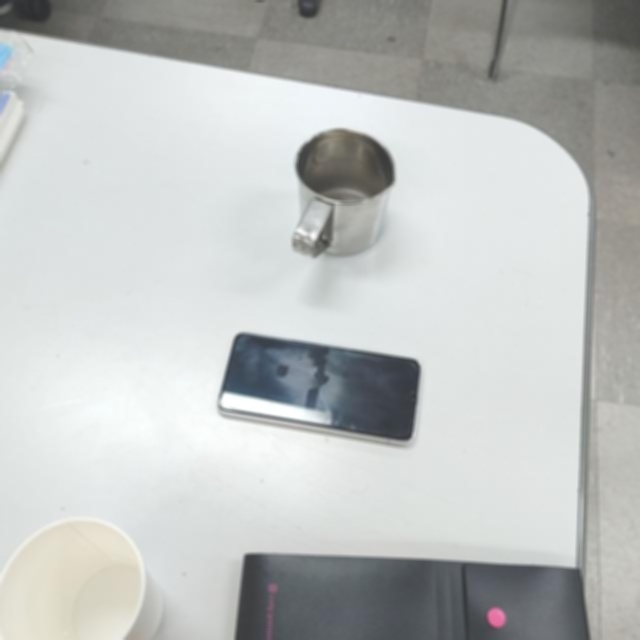cup: (287, 127, 399, 260)
phone: (214, 330, 421, 448)
